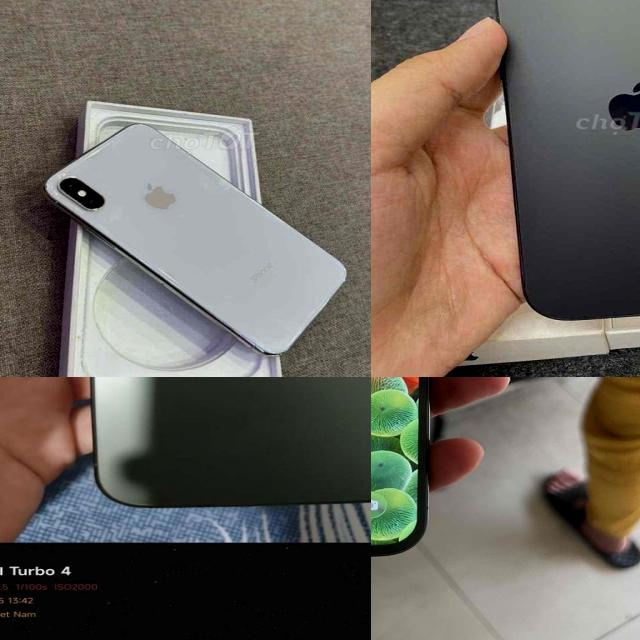gen_12_13: (69, 377, 371, 521)
gen_17: (488, 0, 640, 331)
gen_x_xs: (26, 114, 371, 366)
